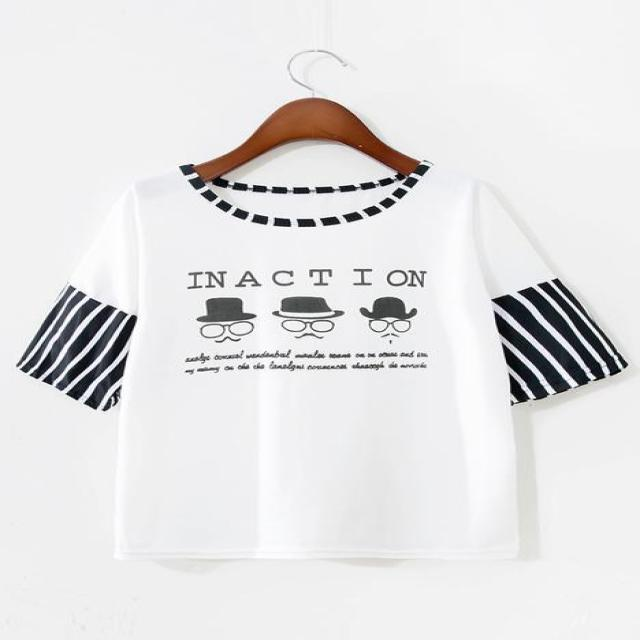short sleeve top: (18, 164, 626, 561)
